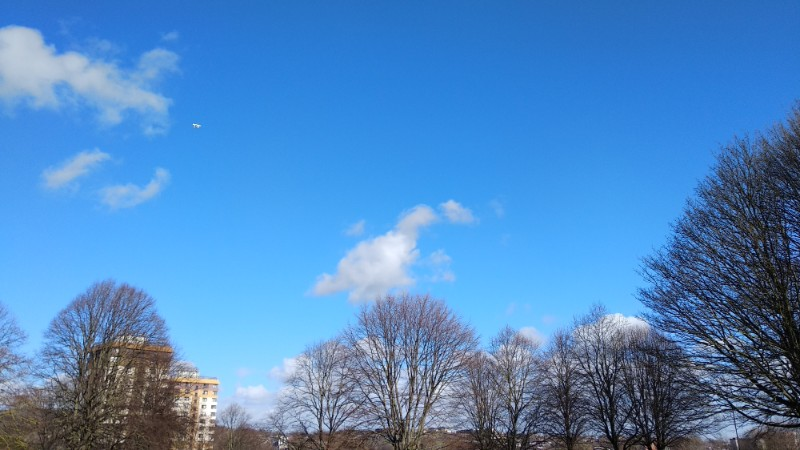drone: (191, 122, 203, 130)
